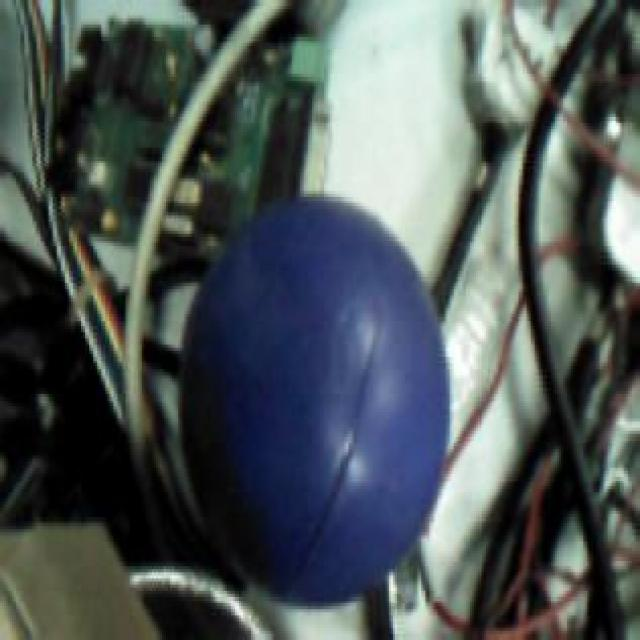BallPurple: (186, 196, 450, 609)
